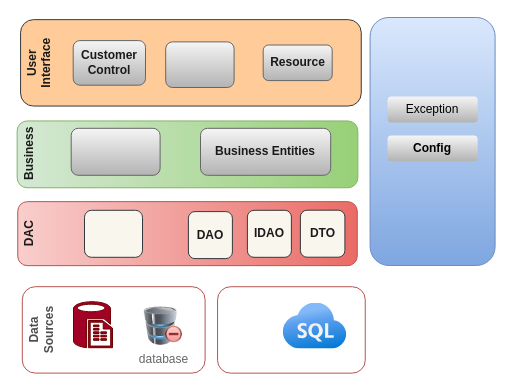
The diagram is 513 pixels wide and 391 high, and some of its shapes have lost their labels. The box of each missing label's shape, as (x1, y1, x2, y2) in pixels:
BLFactory: (70, 127, 160, 175)
Data Helper: (84, 209, 142, 257)
Data Service: (216, 286, 365, 373)
Framework: (369, 16, 495, 266)
SQLITE: (72, 301, 112, 348)
User Control: (165, 41, 234, 88)
